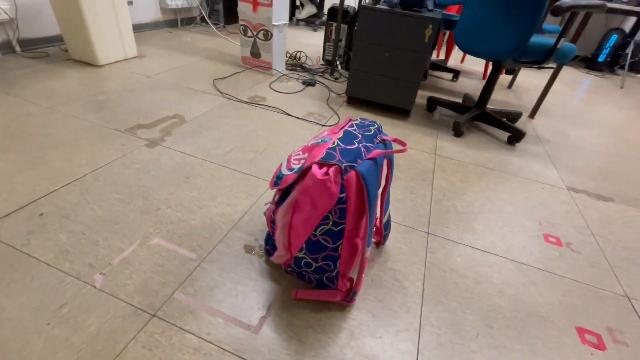Backpack: (260, 112, 414, 312)
